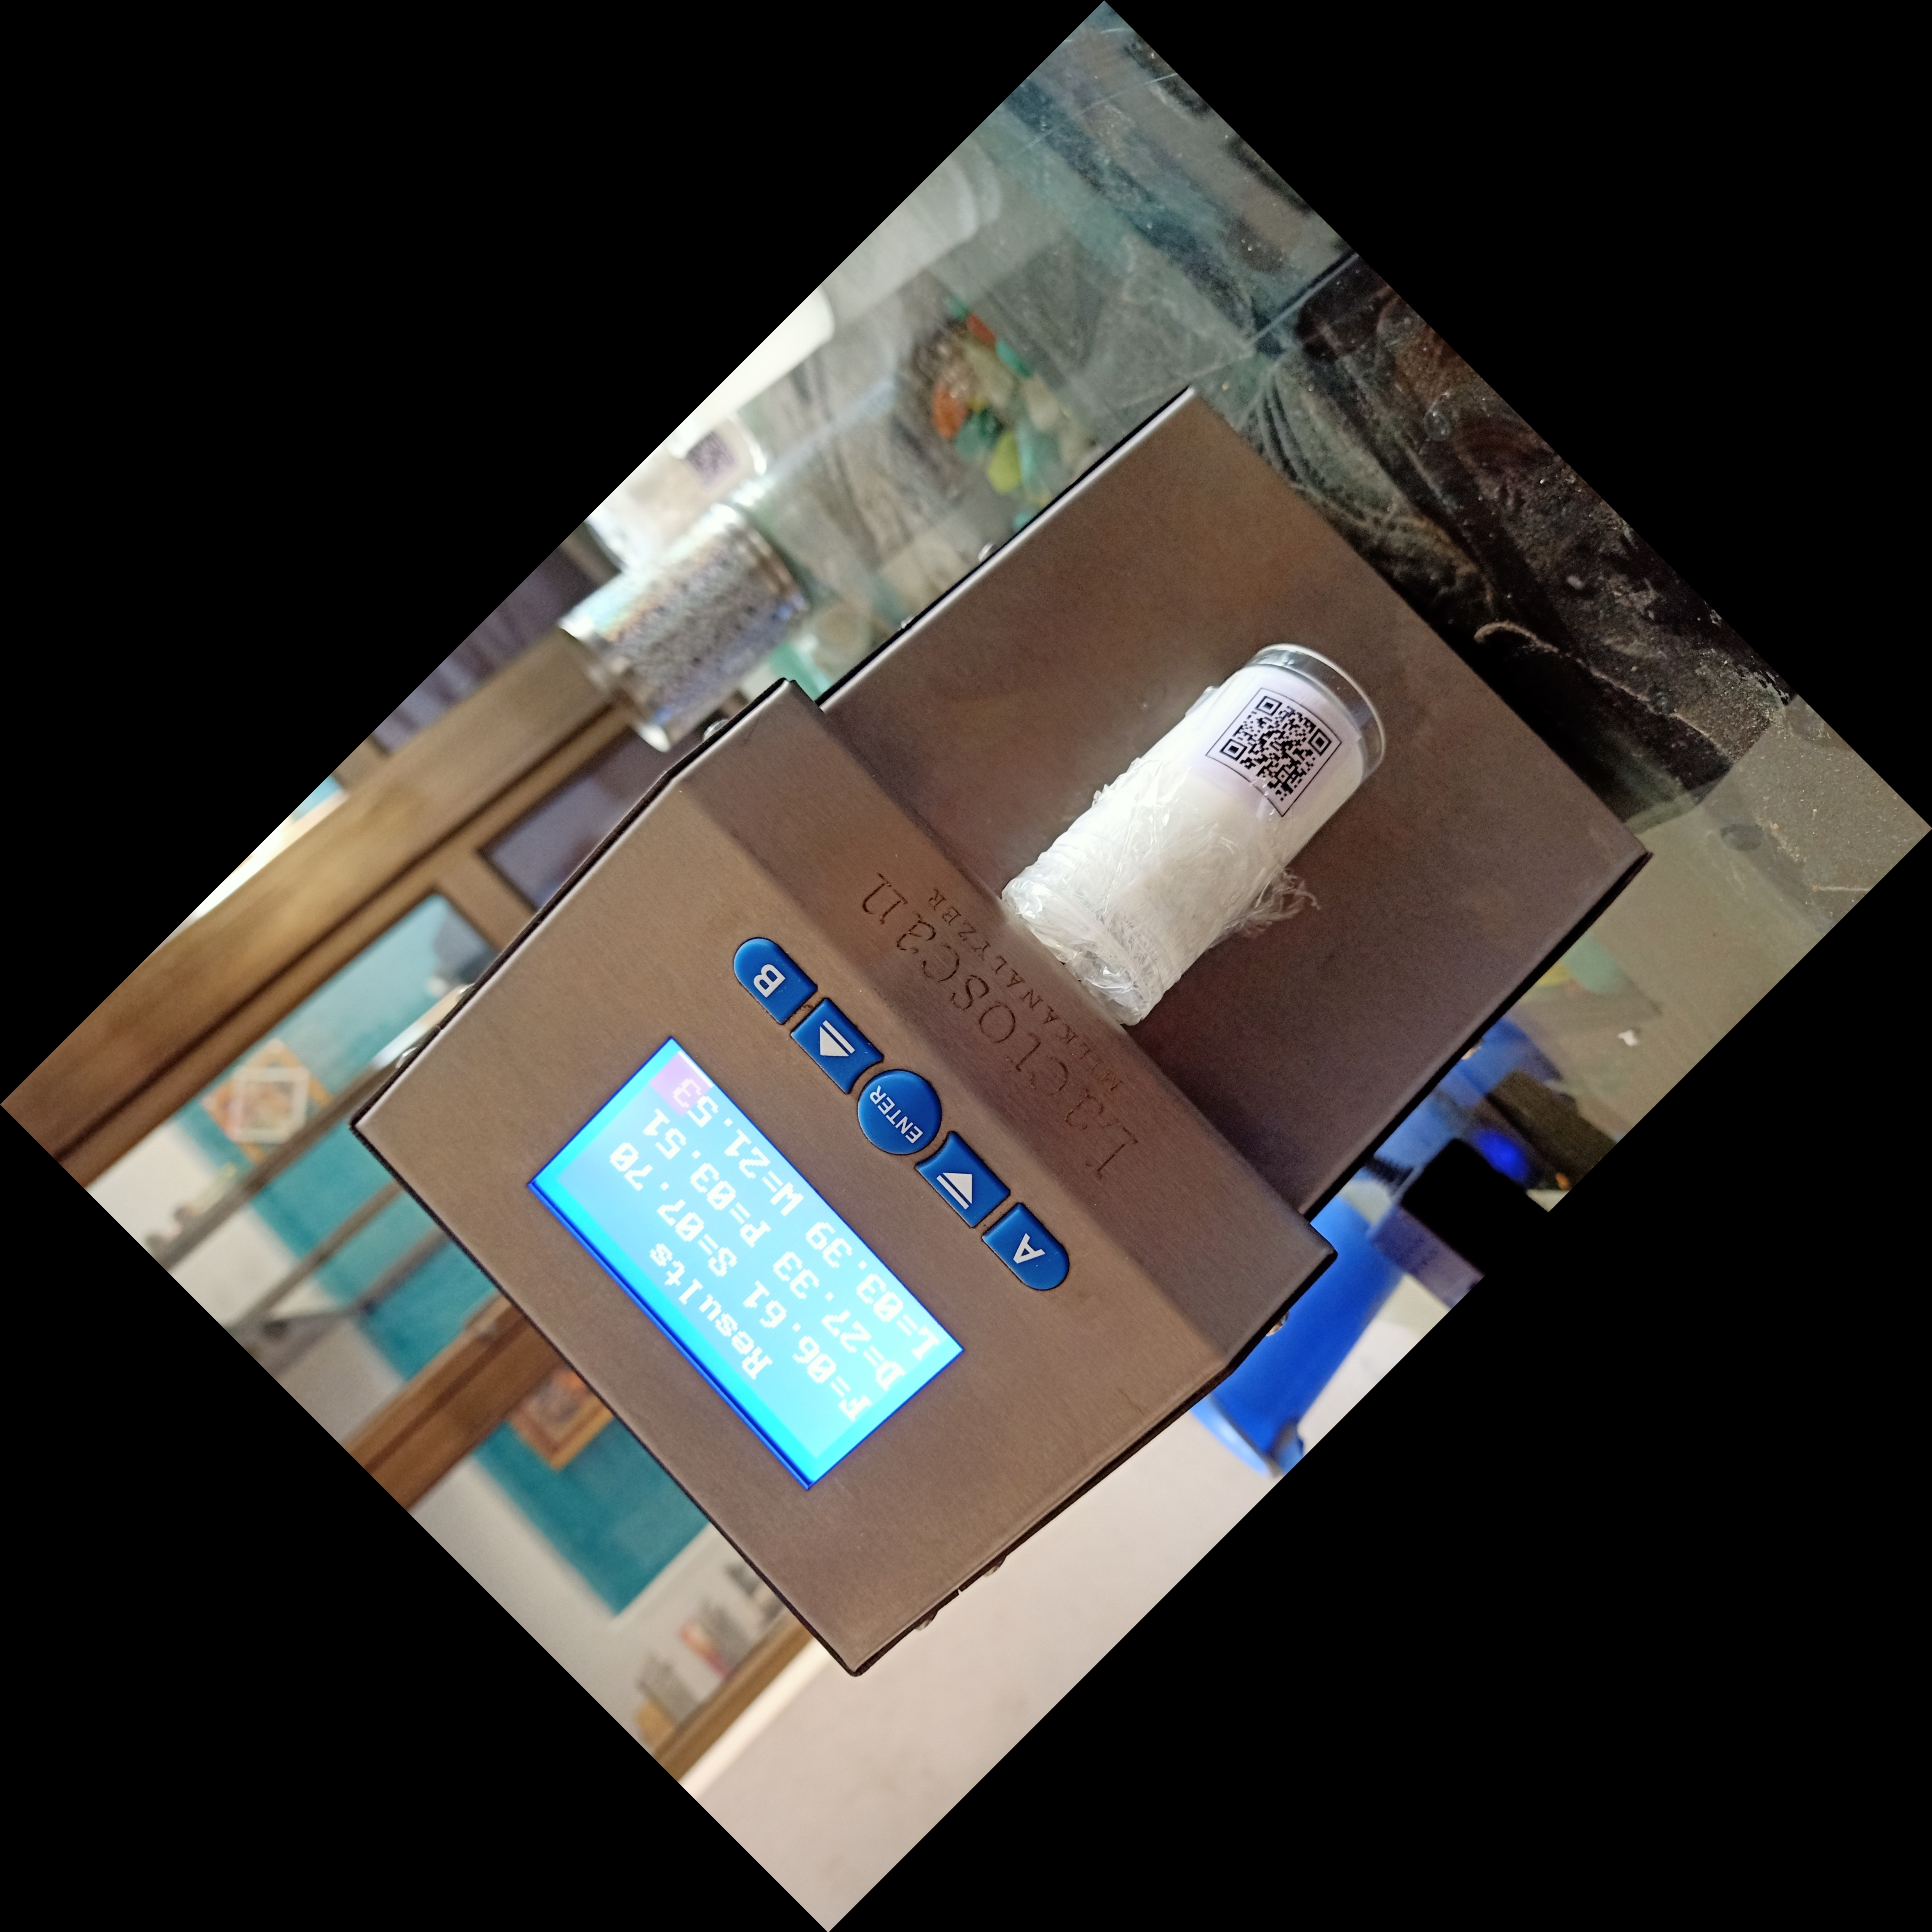lcd: (517, 1040, 971, 1500)
qr: (1214, 683, 1348, 824)
